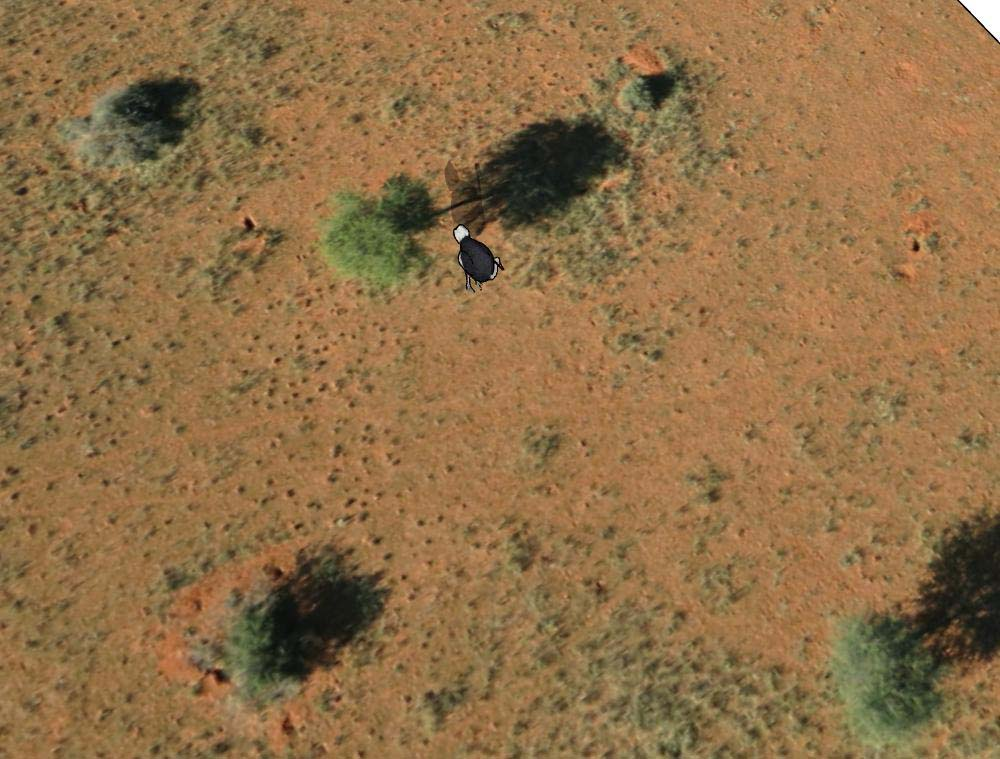springbok: (443, 216, 505, 296)
